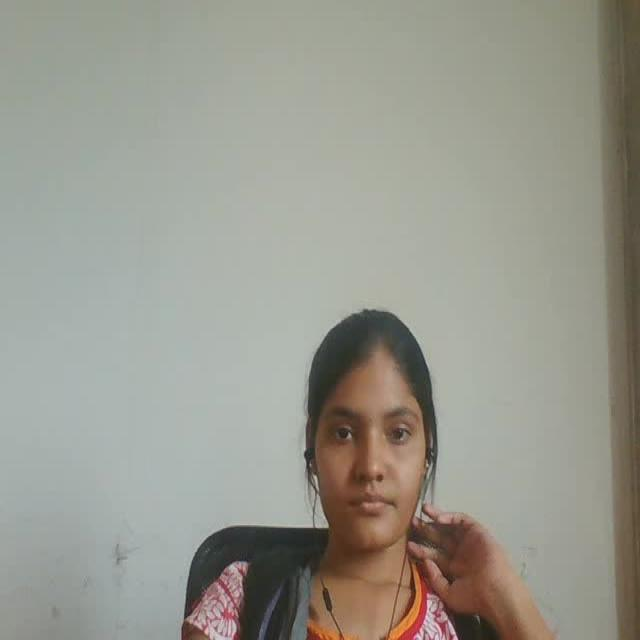Engaged: (285, 284, 466, 589)
